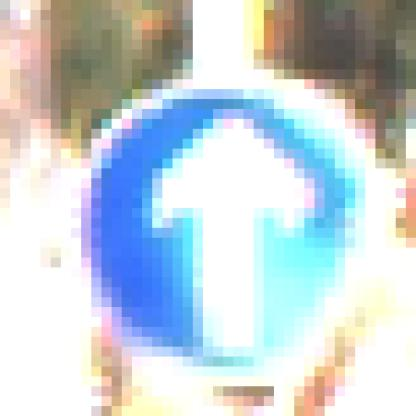AheadOnly: (62, 61, 366, 368)
